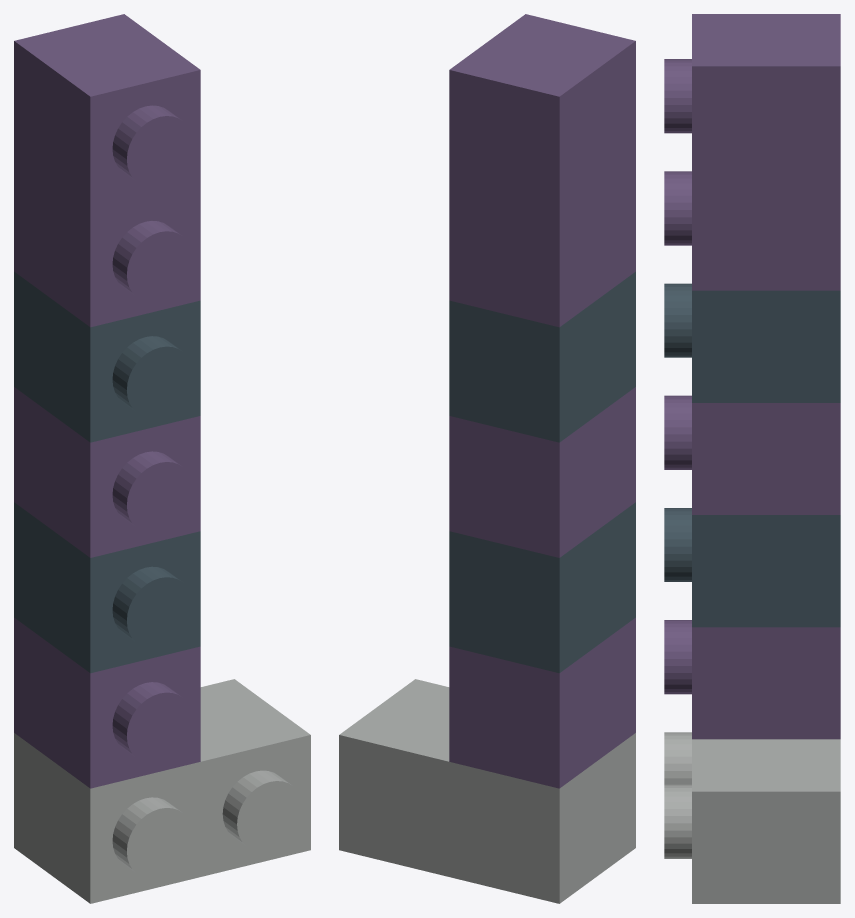
The model's file is current.glb.
The picture shows the model from 3 angles, left to right: view 1: azimuth 30°, elevation 25°; view 2: azimuth 150°, elevation 25°; view 3: azimuth 270°, elevation 25°; orthographic projection. The views are drawn at different scales.
Visible parts, largest first — view 1: world; view 2: world; view 3: world.
Part boxes in pixels (box(x1,y1,x2,y2)): world: box(14, 14, 310, 903); world: box(339, 14, 635, 903); world: box(664, 14, 840, 903).
Size of the model in its own units: 16 by 56 by 11.4.
